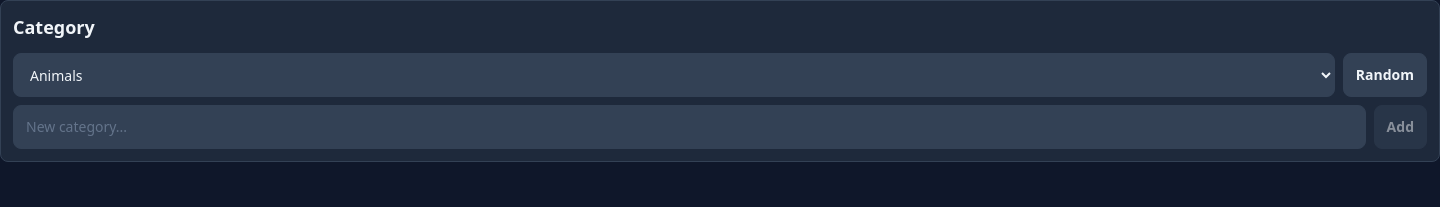
CategorySelector component › single category mode › shows error when round is active
The image size is (1440, 207).
Select "Food" in the dropdown: x=674, y=75 [13,53,1335,97]
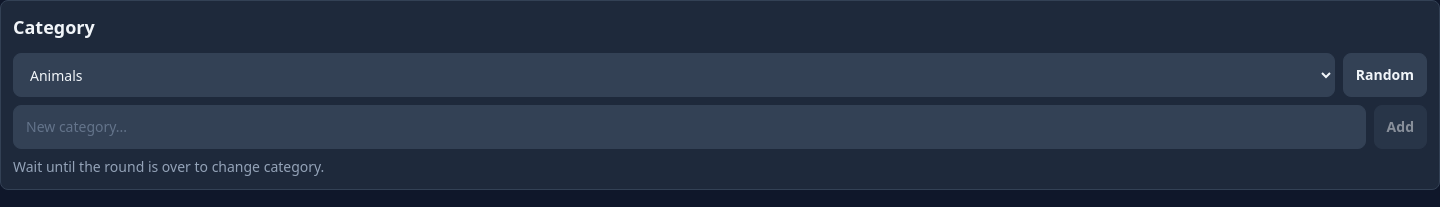
Now the text "Wait until the round is over to change category." is shown, box [13,157,324,176]
